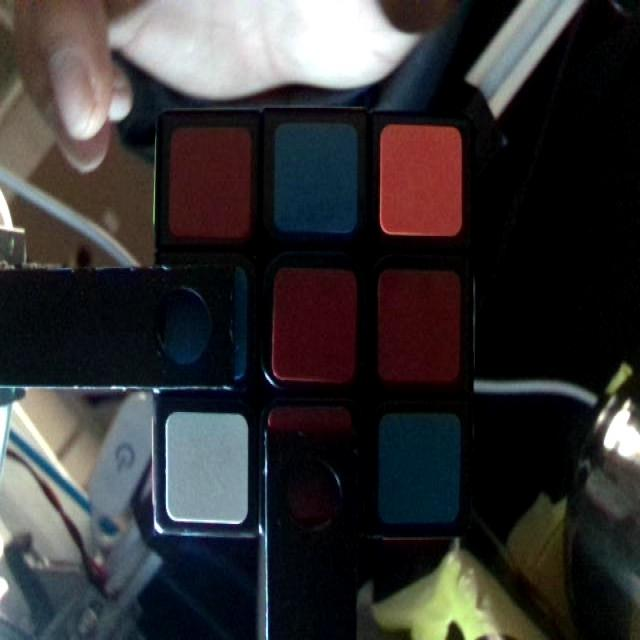b: (156, 262, 251, 385), (278, 121, 358, 234), (378, 414, 459, 524)
o: (381, 125, 463, 236)
r: (270, 418, 356, 530), (166, 132, 253, 239), (275, 271, 356, 378), (385, 277, 459, 380)
w: (163, 410, 250, 522)
